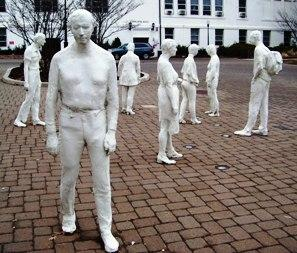person: (46, 6, 125, 252), (236, 29, 277, 138), (155, 38, 185, 166), (14, 29, 49, 130), (179, 43, 205, 127), (116, 42, 138, 115), (206, 42, 221, 119)
